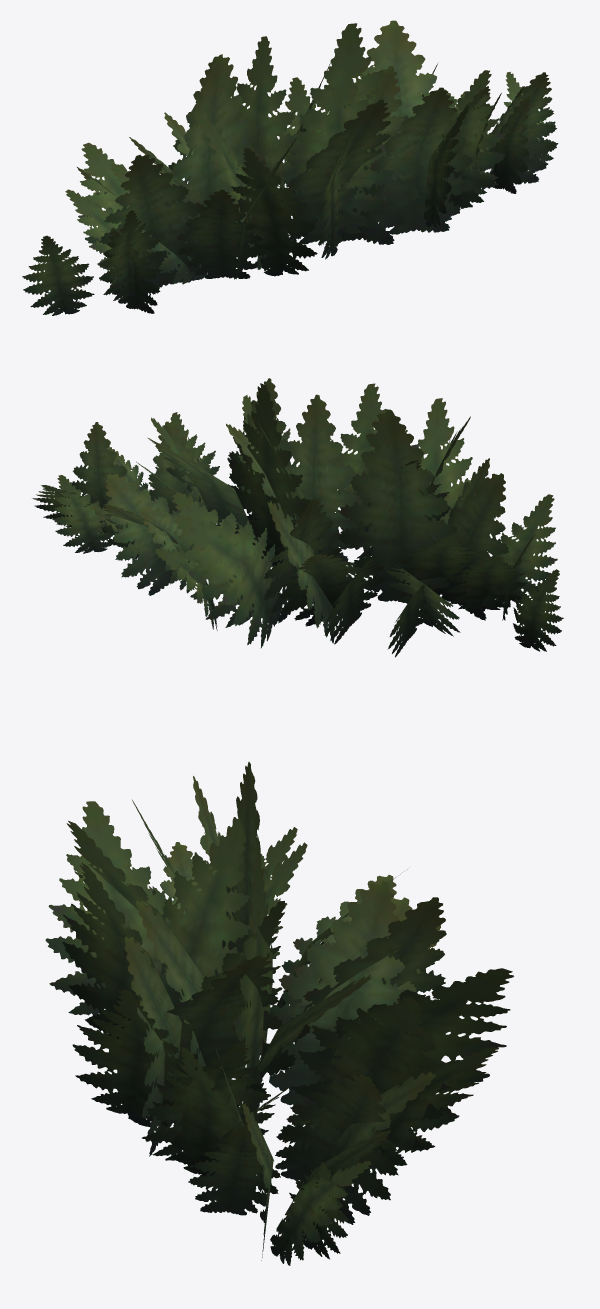
File: grass_B.fbx
3 renders of one model, top to bottom at view 1: azimuth 30°, elevation 25°; view 2: azimuth 150°, elevation 25°; view 3: azimuth 270°, elevation 25°, orthographic. The views are drawn at different scales.
Visible parts, largest first — view 1: grass_B; view 2: grass_B; view 3: grass_B.
Boxes of the visible parts, <box> form: grass_B: <box>22,20,558,315</box>; grass_B: <box>32,378,563,657</box>; grass_B: <box>45,762,513,1265</box>.
Bounding box in the file's own units: 9.57 × 4.35 × 6.11.
